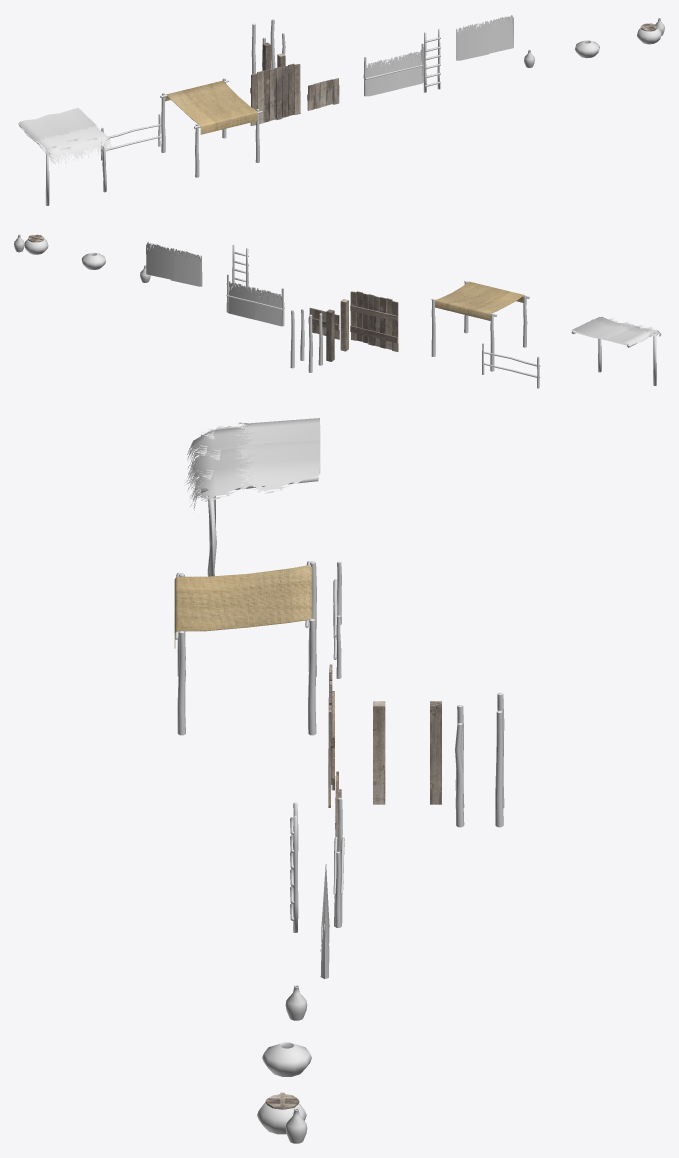
Rendered from Const.fbx.
3 renders of one model, top to bottom at view 1: azimuth 30°, elevation 25°; view 2: azimuth 150°, elevation 25°; view 3: azimuth 270°, elevation 25°, orthographic. The views are drawn at different scales.
Visible parts, largest first — view 1: Cube.029, Cube.013, Cube.028, Cube.021, Cube.018, Cube.027, Cube.019, Cube.020, Cylinder.002, Cylinder.001; view 2: Cube.029, Cube.028, Cube.021, Cube.018, Cube.013, Cube.027, Cube.023, Cube.022, Cube.020, Cube.019, Cylinder.002, Cylinder.001 (+1 smaller); view 3: Cube.029, Cube.013, Cube.022, Cylinder.002, Cube.023, Cube.021.
Boxes of the visible parts, bbox=[...] form: Cube.029: bbox=[160, 78, 262, 177]; Cube.013: bbox=[18, 108, 112, 205]; Cube.028: bbox=[250, 63, 300, 126]; Cube.021: bbox=[363, 43, 423, 96]; Cube.018: bbox=[456, 15, 513, 60]; Cube.027: bbox=[307, 78, 339, 110]; Cube.019: bbox=[423, 29, 440, 92]; Cube.020: bbox=[101, 114, 161, 160]; Cylinder.002: bbox=[575, 40, 599, 58]; Cylinder.001: bbox=[637, 28, 661, 44]; Cube.029: bbox=[431, 281, 529, 371]; Cube.028: bbox=[350, 291, 398, 351]; Cube.021: bbox=[226, 274, 284, 326]; Cube.018: bbox=[146, 242, 202, 286]; Cube.013: bbox=[571, 316, 661, 385]; Cube.027: bbox=[308, 307, 339, 339]; Cube.023: bbox=[326, 309, 334, 361]; Cube.022: bbox=[340, 299, 348, 351]; Cube.020: bbox=[482, 343, 540, 388]; Cube.019: bbox=[232, 244, 248, 290]; Cylinder.002: bbox=[81, 252, 105, 269]; Cylinder.001: bbox=[24, 238, 48, 254]; Cube.029: bbox=[174, 561, 316, 735]; Cube.013: bbox=[184, 418, 320, 576]; Cube.022: bbox=[373, 701, 385, 804]; Cylinder.002: bbox=[262, 1042, 311, 1076]; Cube.023: bbox=[430, 701, 441, 804]; Cube.021: bbox=[333, 797, 344, 927].
Bounding box in the file's own units: 1044 × 99.86 × 239.
